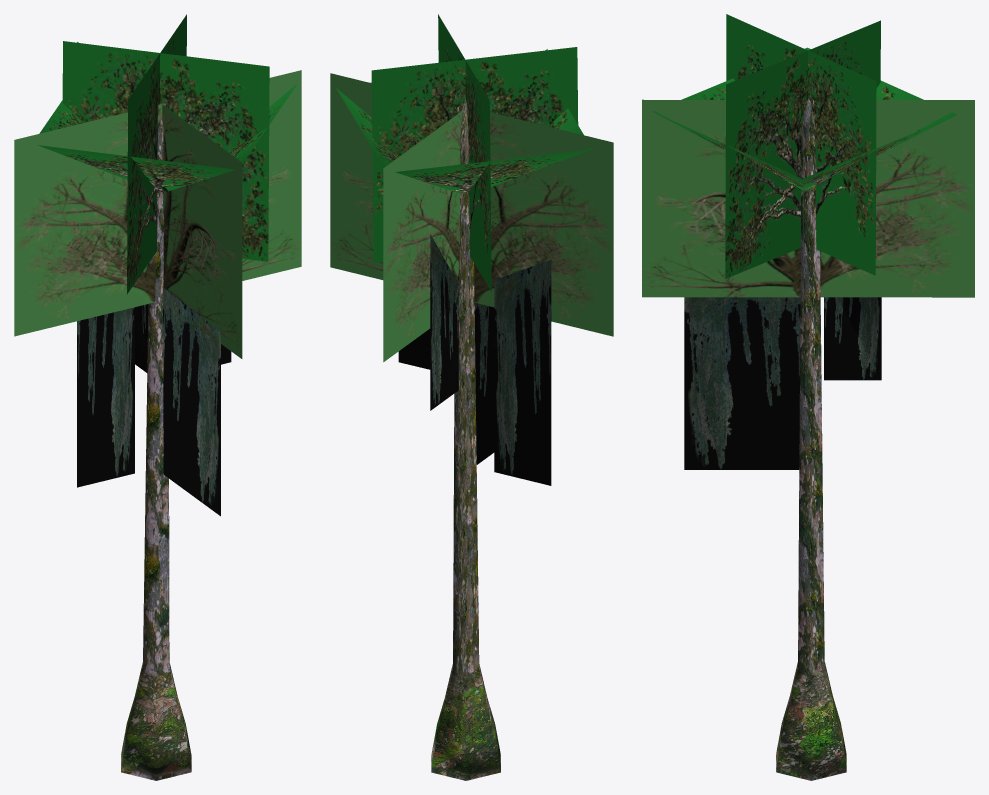
The model's file is decd_mosstree_l0.fbx.
3 views of the same model, side by side, from view 1: azimuth 30°, elevation 25°; view 2: azimuth 150°, elevation 25°; view 3: azimuth 270°, elevation 25° (orthographic).
Parts seen in each view (by area): view 1: mesh_node; view 2: mesh_node; view 3: mesh_node.
Boxes of the visible parts, box(x1,y1,x2,y2) form: mesh_node: box(14, 14, 301, 780); mesh_node: box(330, 14, 613, 780); mesh_node: box(642, 14, 974, 780).
Bounding box in the file's own units: 6.69 × 15.85 × 6.69.
